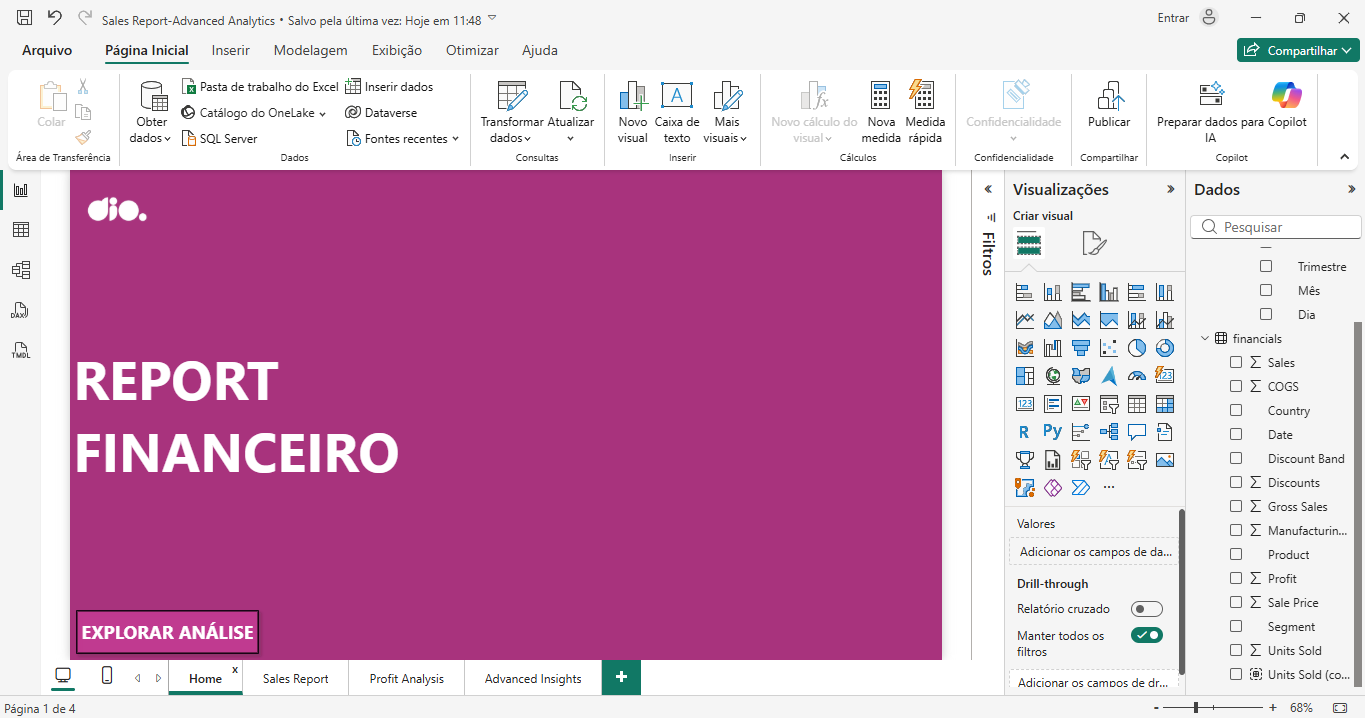

The dashboard page shown, as its layout file describes it:
{"tool":"powerbi","page":{"name":"Home","canvas":[1280,720],"ordinal":0},"visuals":[{"type":"textbox","box":[0,246.9,499.6,224.8],"z":0},{"type":"image","box":[0,0,139.6,114.6],"z":1000},{"type":"actionButton","box":[0,637.7,286.5,82.3],"z":2000}]}

Visuals, with their boxes on the page's 1280x720 design canvas (x1, y1, x2, y2). These are canvas units, not pixel positions in the 1365x718 screenshot, which may show the page scaled, cropped or inside an application window:
textbox: (left=0, top=247, right=500, bottom=472)
image: (left=0, top=0, right=140, bottom=115)
actionButton: (left=0, top=638, right=286, bottom=720)
